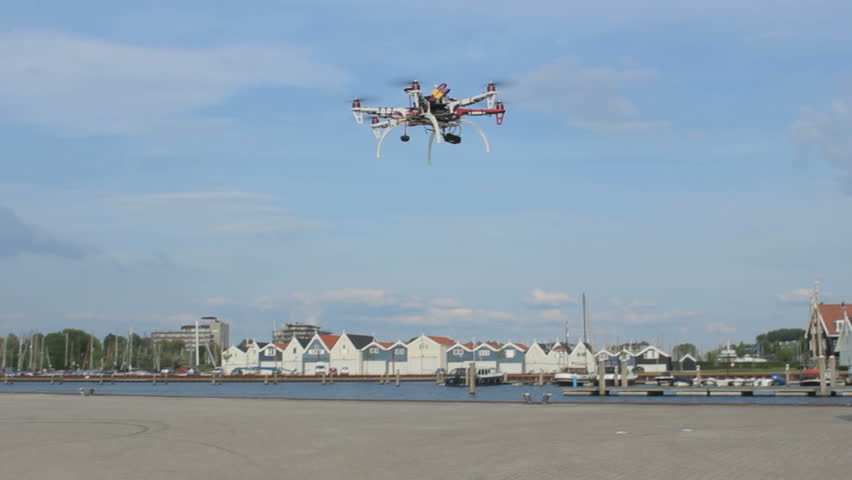drone: (339, 71, 530, 171)
